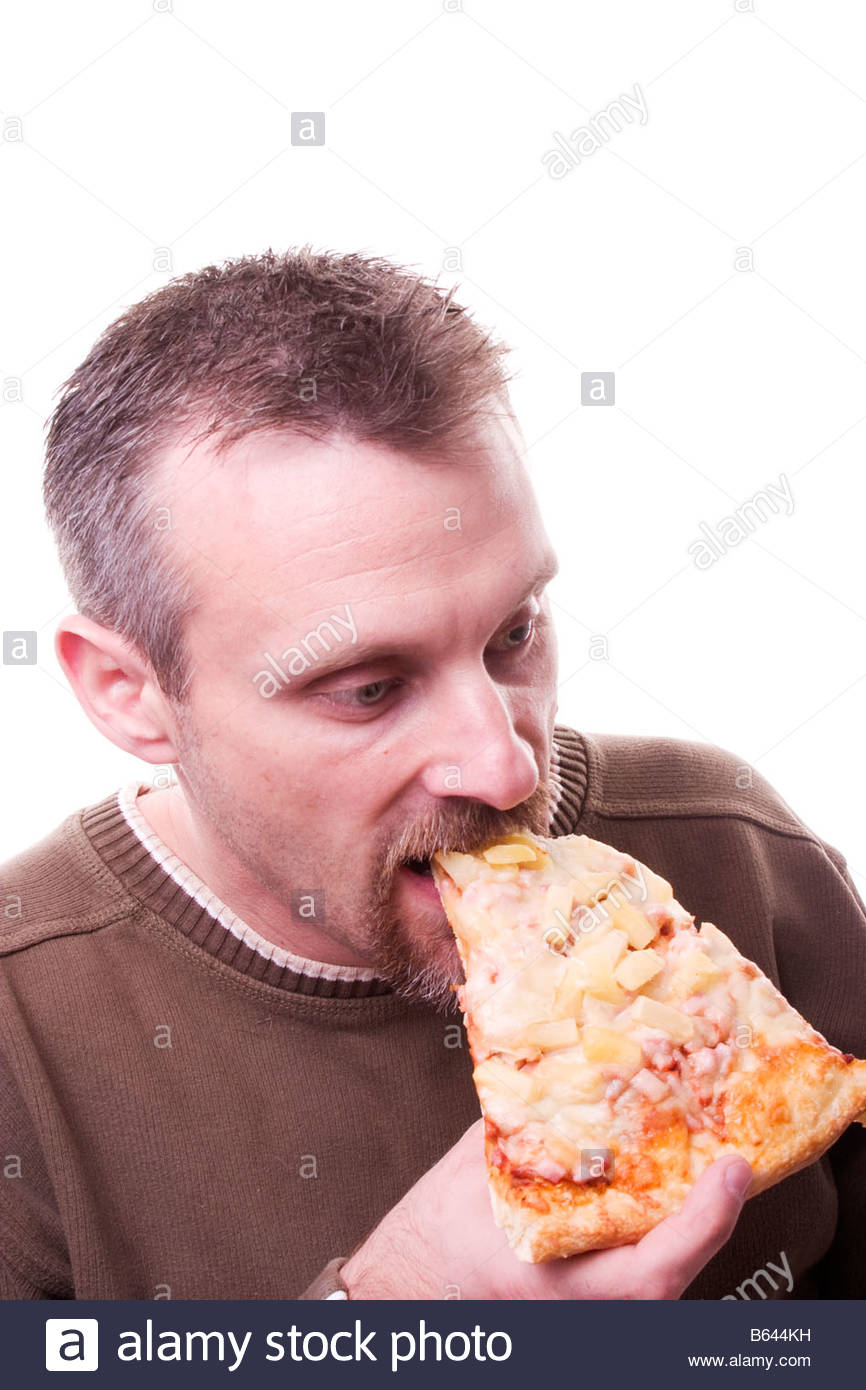eating: (19, 217, 787, 1146)
